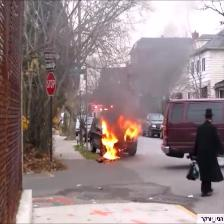fire: (88, 91, 149, 170)
nofire: (44, 67, 60, 99)
